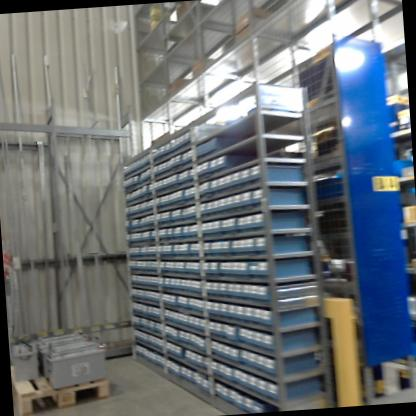pallet: (13, 357, 117, 416)
